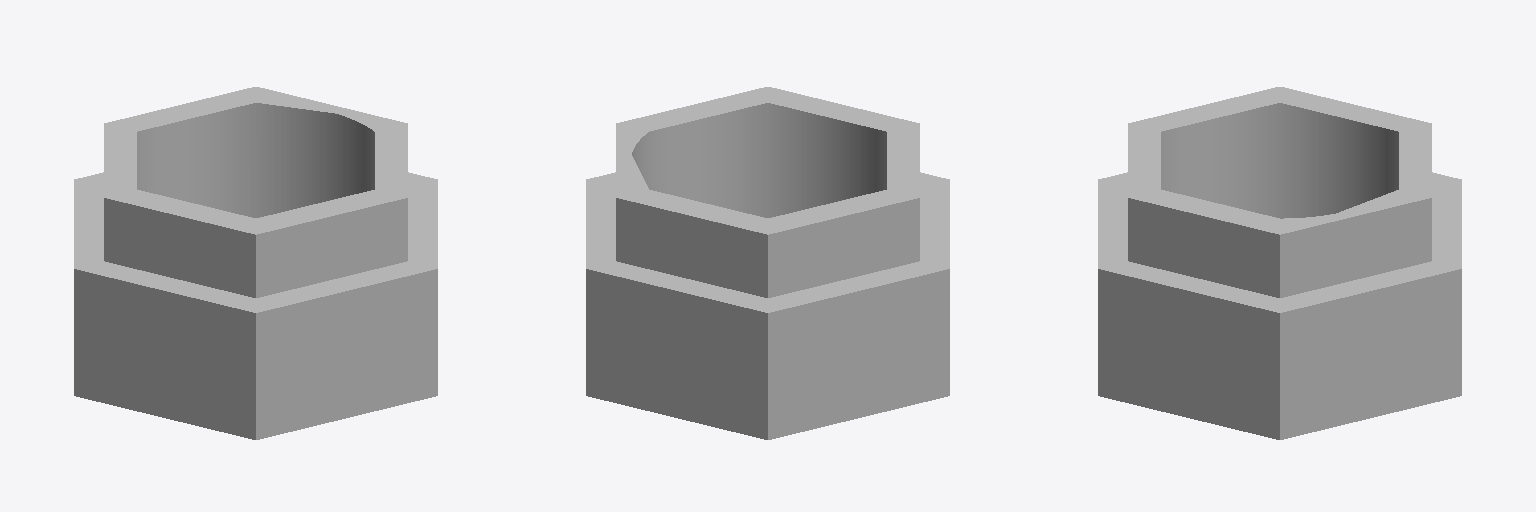
The model's file is HoneyCombPiece_Wall.obj.
3 renders of one model, left to right at view 1: azimuth 30°, elevation 25°; view 2: azimuth 150°, elevation 25°; view 3: azimuth 270°, elevation 25°, orthographic.
Visible parts, largest first — view 1: wall_Curve.008; view 2: wall_Curve.008; view 3: wall_Curve.008.
Boxes of the visible parts, box(x1,y1,x2,y2) form: wall_Curve.008: box(74, 87, 437, 439); wall_Curve.008: box(586, 87, 949, 439); wall_Curve.008: box(1098, 87, 1461, 439).
Size of the model in its own units: 0.03 by 0.015 by 0.026.